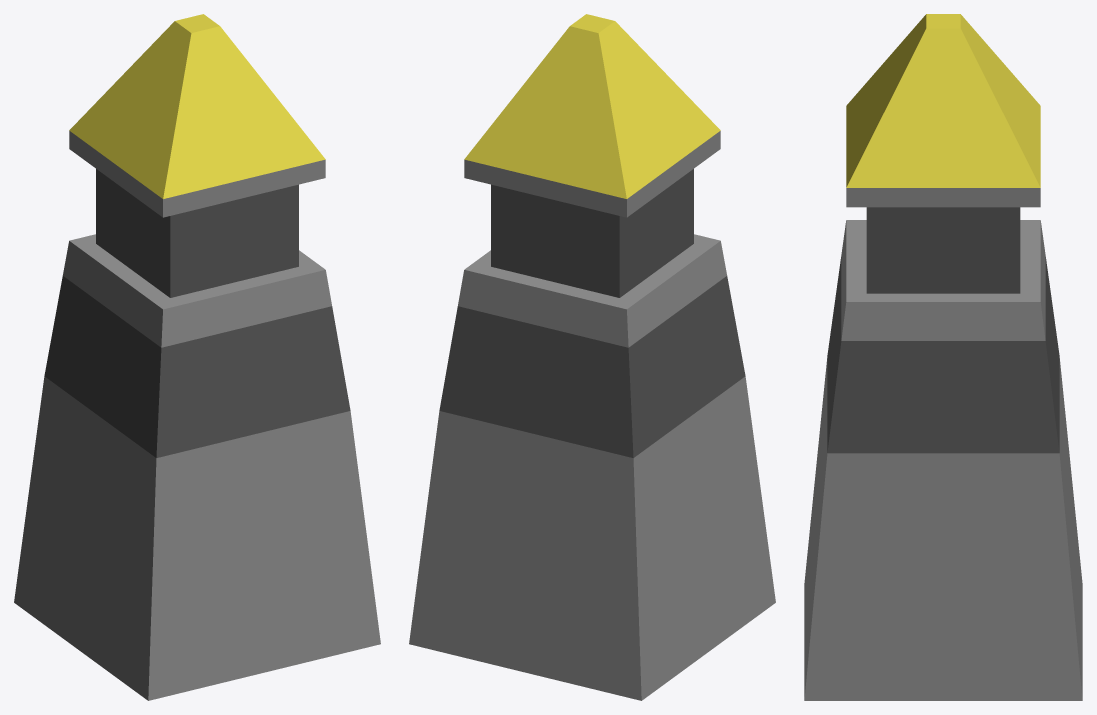
The model's file is SM_TileP3Tower.fbx.
3 renders of one model, left to right at view 1: azimuth 30°, elevation 25°; view 2: azimuth 150°, elevation 25°; view 3: azimuth 270°, elevation 25°, orthographic. The views are drawn at different scales.
Parts seen in each view (by area): view 1: TileP3Tower; view 2: TileP3Tower; view 3: TileP3Tower.
Part boxes in pixels (<box>): TileP3Tower: <box>14,14,380,700</box>; TileP3Tower: <box>409,14,775,700</box>; TileP3Tower: <box>804,14,1082,700</box>.
Bounding box in the file's own units: 96.95 × 239 × 96.95.
